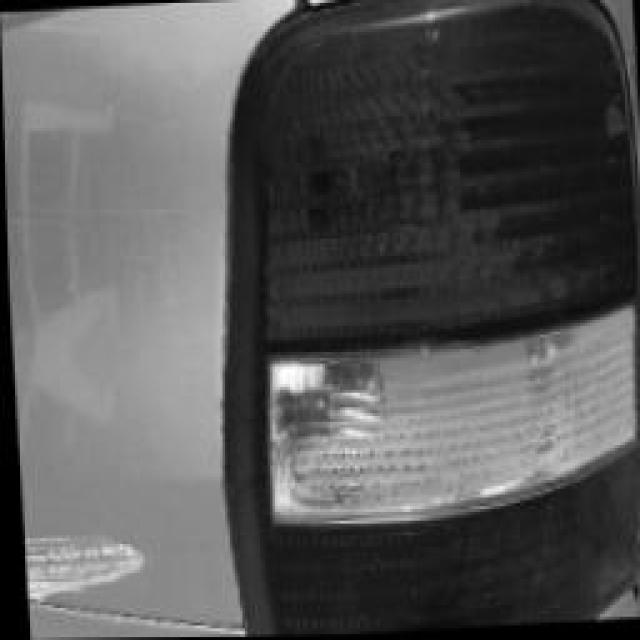Dickey: (18, 489, 166, 639)
